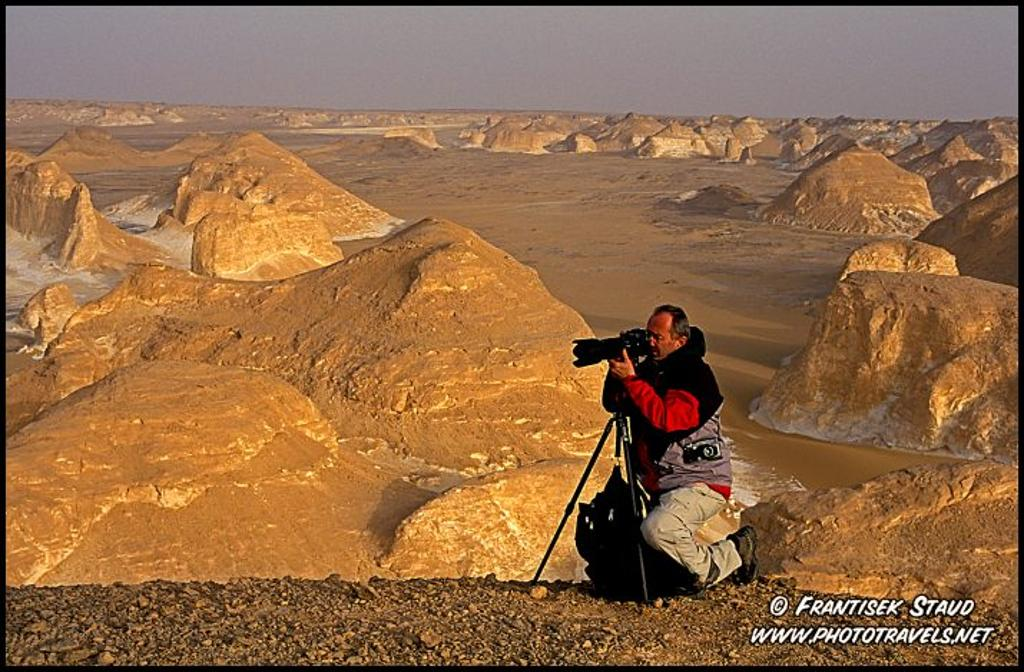face: (646, 312, 675, 360)
